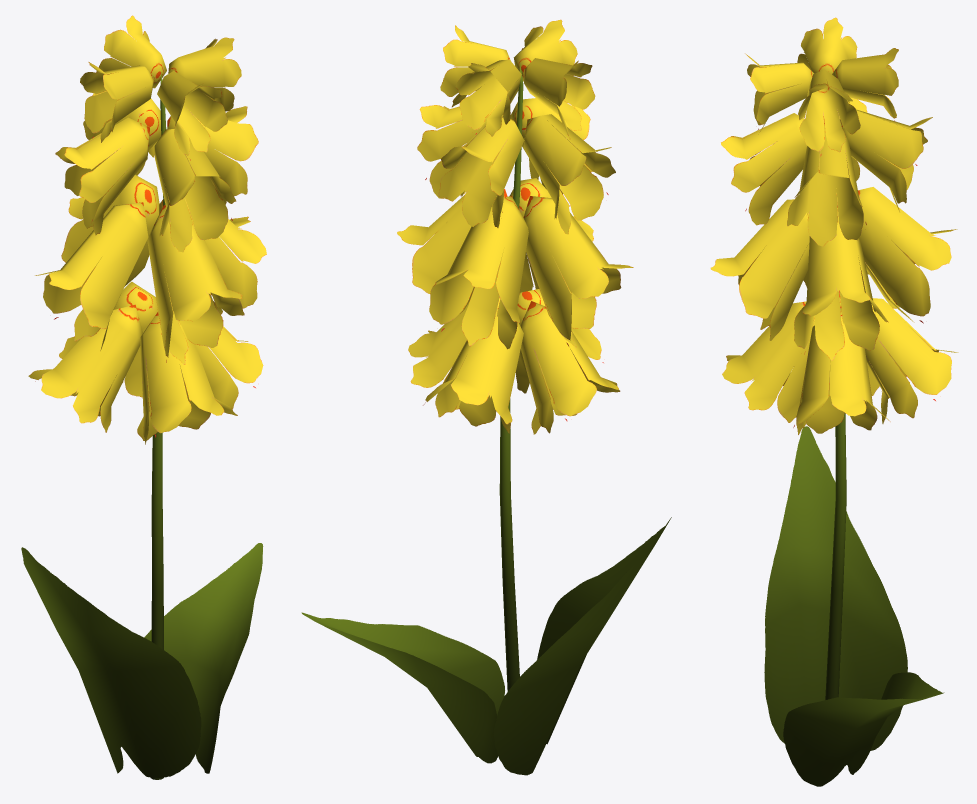
The model's file is Flower_4_Single.gltf.
The picture shows the model from 3 angles, left to right: view 1: azimuth 30°, elevation 25°; view 2: azimuth 150°, elevation 25°; view 3: azimuth 270°, elevation 25°; orthographic projection.
Parts seen in each view (by area): view 1: Flower_4_Single; view 2: Flower_4_Single; view 3: Flower_4_Single.
Boxes of the visible parts, x1,y1,x2,y2 form: Flower_4_Single: (21,15,266,779); Flower_4_Single: (301,19,671,775); Flower_4_Single: (710,17,958,786).
Bounding box in the file's own units: 1.07 × 2.42 × 0.7729.
2 materials, 2 textured.
